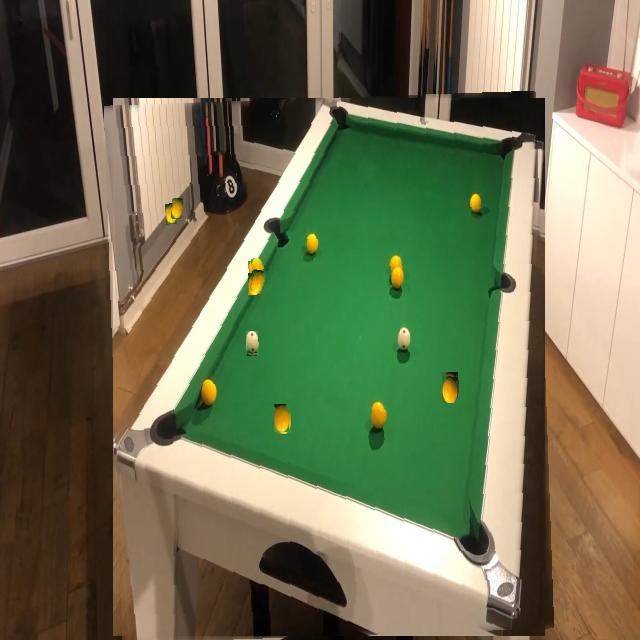Ball: (442, 376, 458, 403), (274, 404, 289, 432), (250, 270, 265, 292), (335, 233, 349, 254), (247, 331, 259, 353), (170, 198, 182, 219), (252, 258, 264, 275)
Billiard table: (108, 94, 550, 640)
